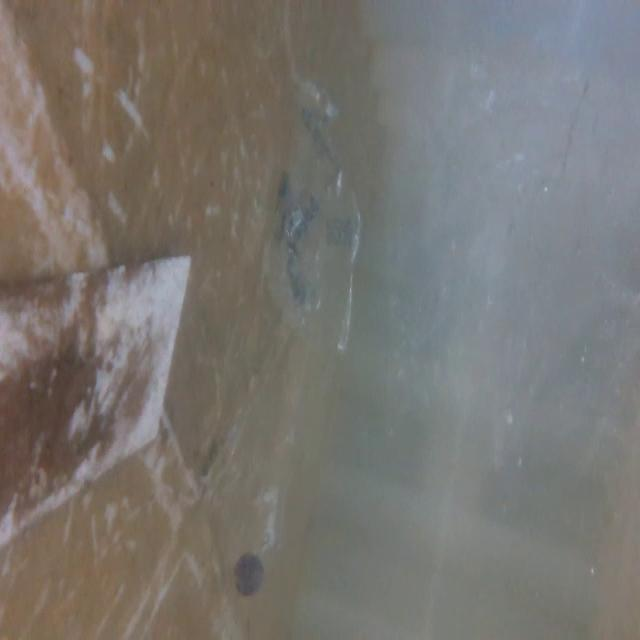metal: (0, 252, 196, 541)
plastic bags: (369, 4, 607, 514), (255, 50, 366, 362)
plastic bottle: (215, 318, 306, 599)
